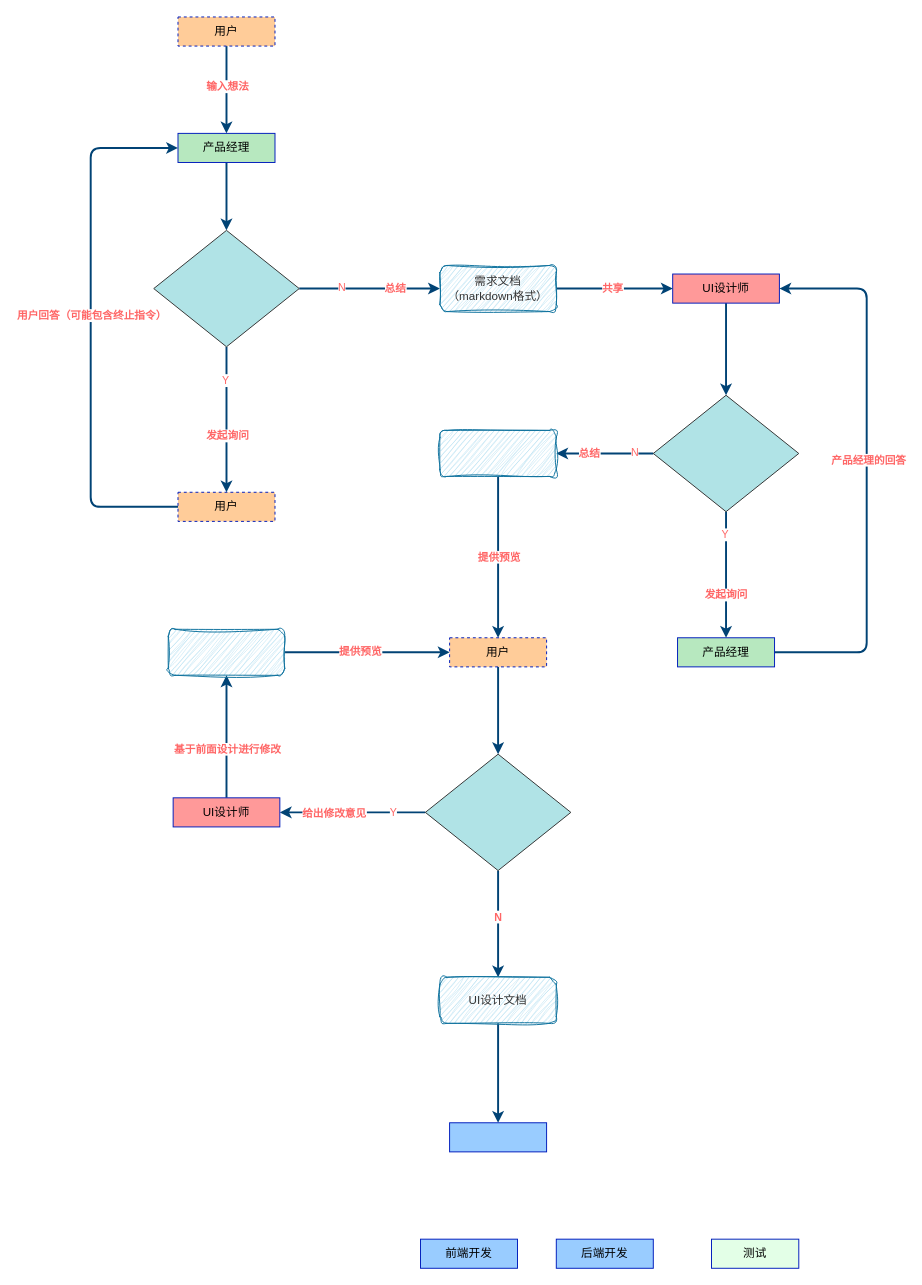
The diagram is 922 pixels wide and 1285 high, and some of its shapes have lost their labels. Here are the shapes that lost their labels. From the top down, the centre of each, then its label:
At (x=226, y=288): "是否需要补充细节".
At (x=497, y=452): "UI初稿".
At (x=725, y=453): "是否需要进行细节讨论".
At (x=226, y=651): "UI草稿".
At (x=497, y=812): "是否需要进行细节调整".
At (x=498, y=1137): "TBD".
